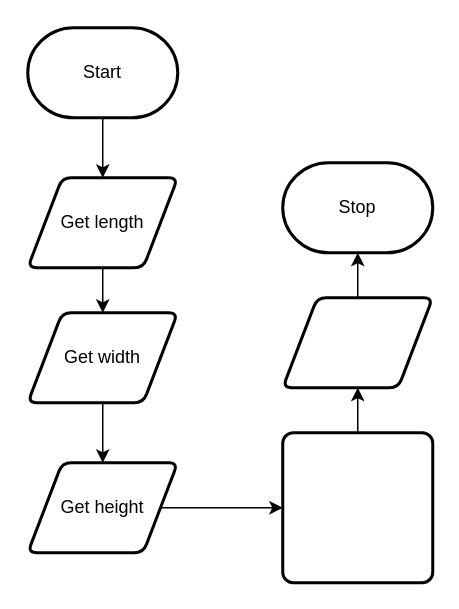
Some shapes in this 459 by 609 pixel diagram are drawn without their labels. Here are the shapes that lost their labels. From the top down, the centre of each, then its label:
At (357,342): "Show volume".
At (357,507): "volume = (lenght * width * height) / 3".
